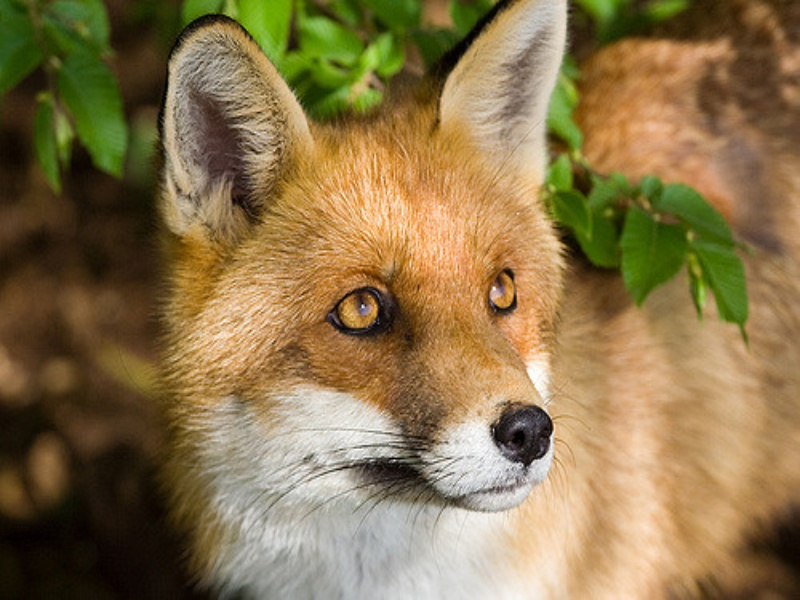fox: (160, 16, 776, 600)
